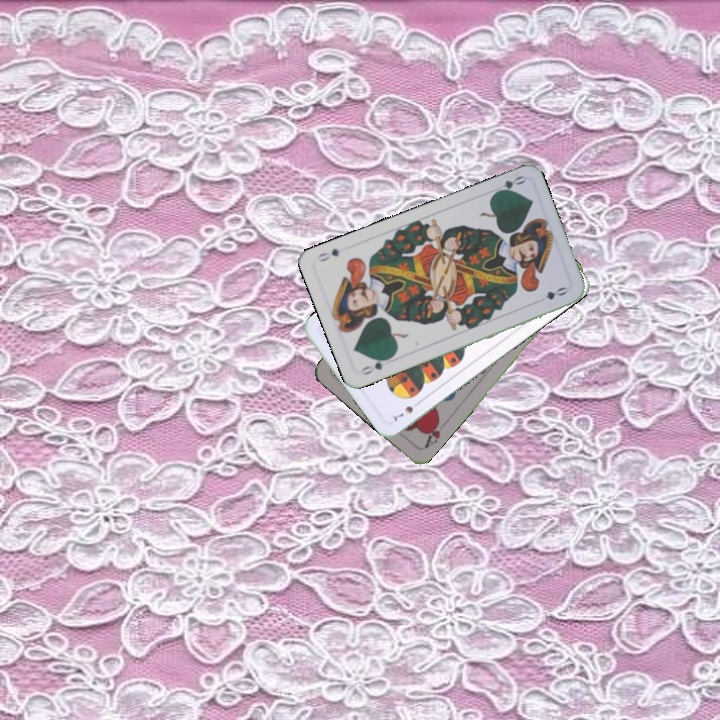GO: (490, 171, 528, 197), (356, 353, 394, 378)
HA: (420, 414, 443, 452)
S7: (390, 397, 424, 424)
